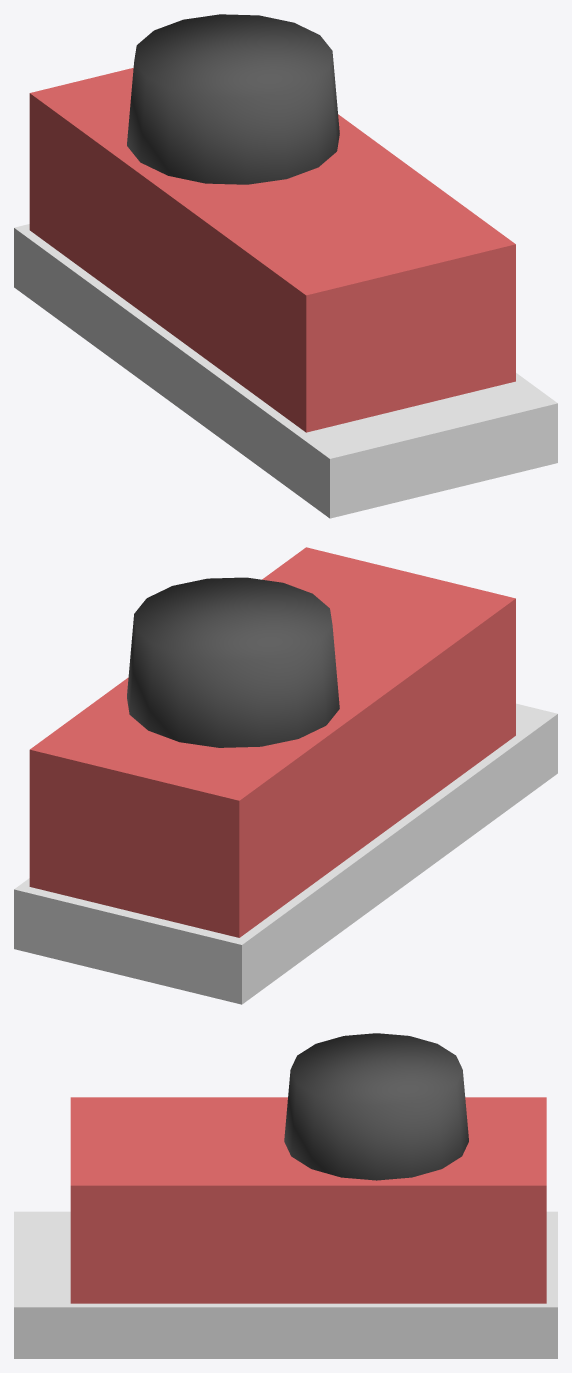
Rendered from 004fc7ef-58b2-47ca-8839-cfb88aec6bd1.glb.
3 views of the same model, one above another, from view 1: azimuth 30°, elevation 25°; view 2: azimuth 150°, elevation 25°; view 3: azimuth 270°, elevation 25° (orthographic). The views are drawn at different scales.
Parts seen in each view (by area): view 1: Generated3DMesh; view 2: Generated3DMesh; view 3: Generated3DMesh.
Part boxes in pixels (x1,y1,x2,y2): Generated3DMesh: [14, 14, 557, 518]; Generated3DMesh: [14, 547, 557, 1004]; Generated3DMesh: [14, 1033, 557, 1358].
Bounding box in the file's own units: 1 × 1.18 × 2.4.
